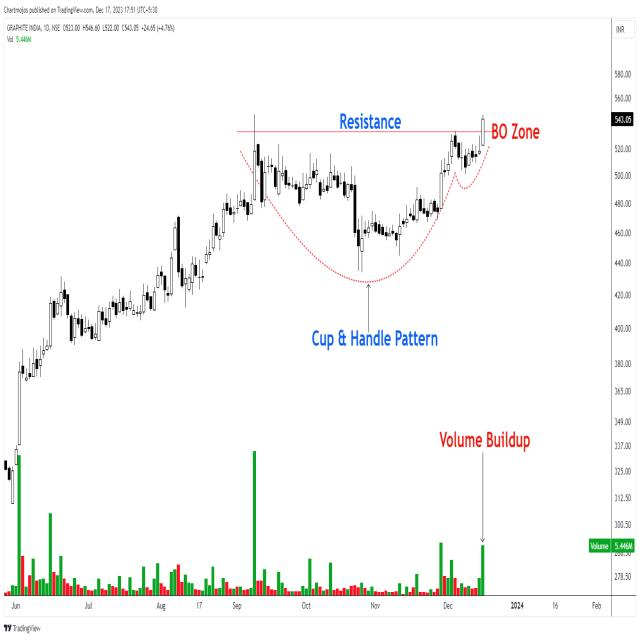Cup-and-handle: (252, 124, 494, 270)
